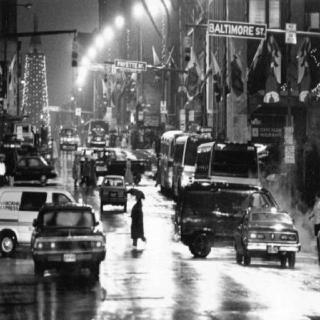other: (34, 238, 103, 250), (266, 206, 282, 218)
